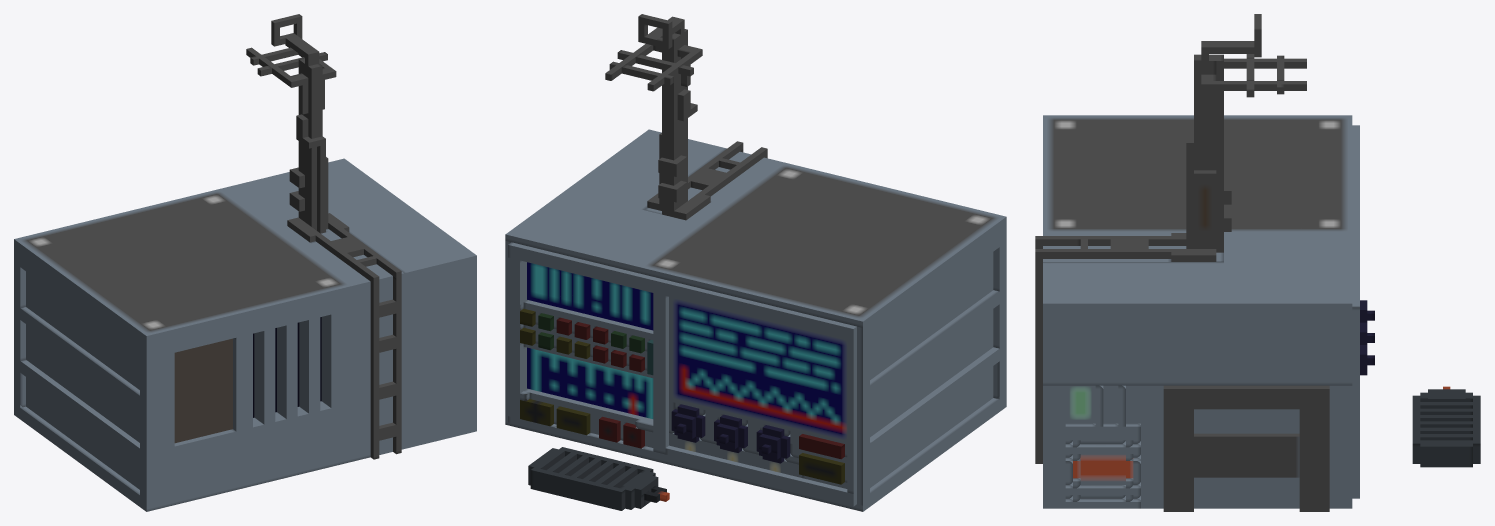
File: radio_do_kontaktu.dae
3 views of the same model, side by side, from view 1: azimuth 30°, elevation 25°; view 2: azimuth 150°, elevation 25°; view 3: azimuth 270°, elevation 25° (orthographic). The views are drawn at different scales.
Visible parts, largest first — view 1: Content; view 2: Content; view 3: Content.
Part boxes in pixels (x1,y1,x2,y2): Content: (14,14,476,511); Content: (505,14,1006,511); Content: (1035,14,1480,511).
Size of the model in its own units: 60 by 63 by 59.
Materials: 1 (1 with a texture image).
